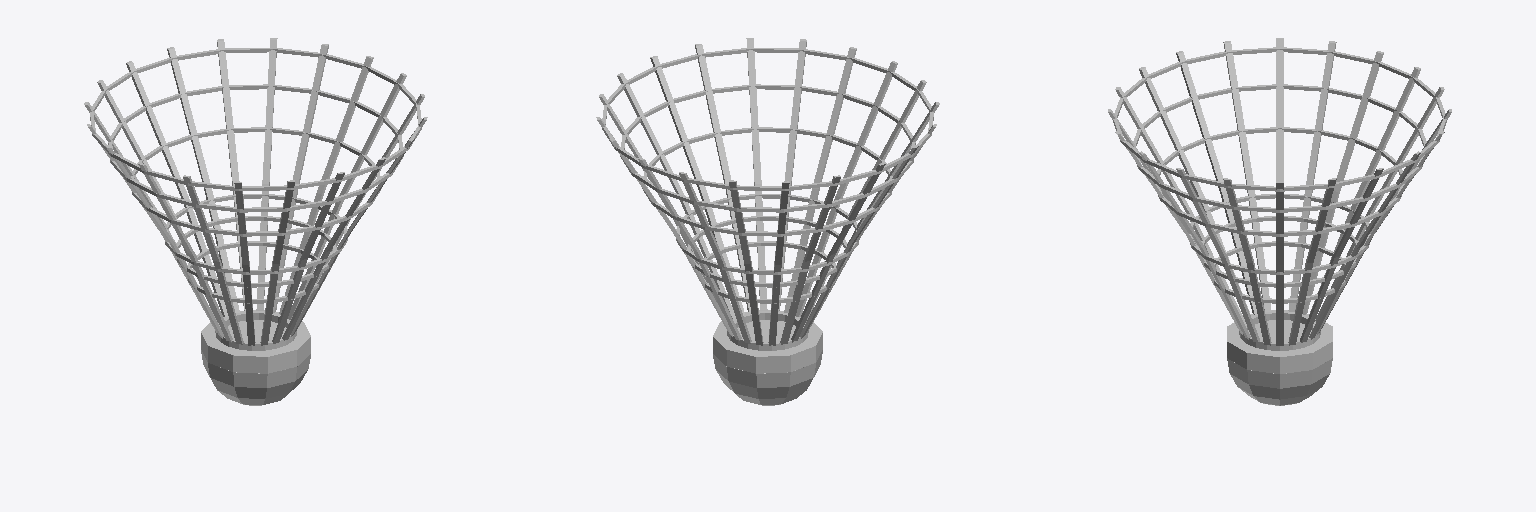
The model's file is shuttle-v2.obj.
The picture shows the model from 3 angles: view 1: azimuth 30°, elevation 25°; view 2: azimuth 150°, elevation 25°; view 3: azimuth 270°, elevation 25°; orthographic projection.
Visible parts, largest first — view 1: 000_Tube, 027_Cylinder, 001_Tube_1, 028_Sphere_-_baked, 002_Tube_2, 020_Box, 022_Box, 023_Box, 018_Box, 019_Box, 017_Box, 003_Tube_3 (+14 smaller); view 2: 000_Tube, 027_Cylinder, 001_Tube_1, 028_Sphere_-_baked, 002_Tube_2, 014_Box, 012_Box, 011_Box, 016_Box, 015_Box, 017_Box, 003_Tube_3 (+14 smaller); view 3: 000_Tube, 027_Cylinder, 001_Tube_1, 028_Sphere_-_baked, 002_Tube_2, 008_Box, 026_Box, 009_Box, 025_Box, 003_Tube_3, 016_Box, 018_Box (+15 smaller).
Part boxes in pixels (bbox=[...]): 000_Tube: bbox=[90, 48, 421, 190]; 027_Cylinder: bbox=[201, 312, 310, 373]; 001_Tube_1: bbox=[108, 84, 403, 212]; 028_Sphere_-_baked: bbox=[201, 350, 310, 405]; 002_Tube_2: bbox=[131, 127, 381, 236]; 020_Box: bbox=[256, 38, 277, 310]; 022_Box: bbox=[167, 47, 239, 312]; 023_Box: bbox=[126, 61, 227, 316]; 018_Box: bbox=[279, 56, 373, 314]; 019_Box: bbox=[273, 44, 328, 312]; 017_Box: bbox=[288, 73, 406, 319]; 003_Tube_3: bbox=[165, 194, 347, 274]; 000_Tube: bbox=[602, 48, 933, 190]; 027_Cylinder: bbox=[713, 312, 822, 373]; 001_Tube_1: bbox=[620, 84, 915, 212]; 028_Sphere_-_baked: bbox=[713, 350, 822, 405]; 002_Tube_2: bbox=[642, 127, 892, 236]; 014_Box: bbox=[746, 38, 767, 310]; 012_Box: bbox=[784, 47, 856, 312]; 011_Box: bbox=[796, 61, 897, 316]; 016_Box: bbox=[650, 56, 744, 314]; 015_Box: bbox=[695, 44, 750, 312]; 017_Box: bbox=[617, 73, 735, 319]; 003_Tube_3: bbox=[676, 194, 858, 274]; 000_Tube: bbox=[1113, 47, 1446, 191]; 027_Cylinder: bbox=[1227, 314, 1332, 373]; 001_Tube_1: bbox=[1133, 84, 1426, 212]; 028_Sphere_-_baked: bbox=[1227, 358, 1332, 405]; 002_Tube_2: bbox=[1154, 127, 1405, 236]; 008_Box: bbox=[1223, 41, 1271, 311]; 026_Box: bbox=[1288, 41, 1336, 311]; 009_Box: bbox=[1176, 51, 1256, 314]; 025_Box: bbox=[1303, 51, 1383, 314]; 003_Tube_3: bbox=[1189, 194, 1370, 274]; 016_Box: bbox=[1223, 178, 1271, 345]; 018_Box: bbox=[1288, 178, 1336, 345].
Size of the model in its own units: 92.75 by 86.31 by 92.75.